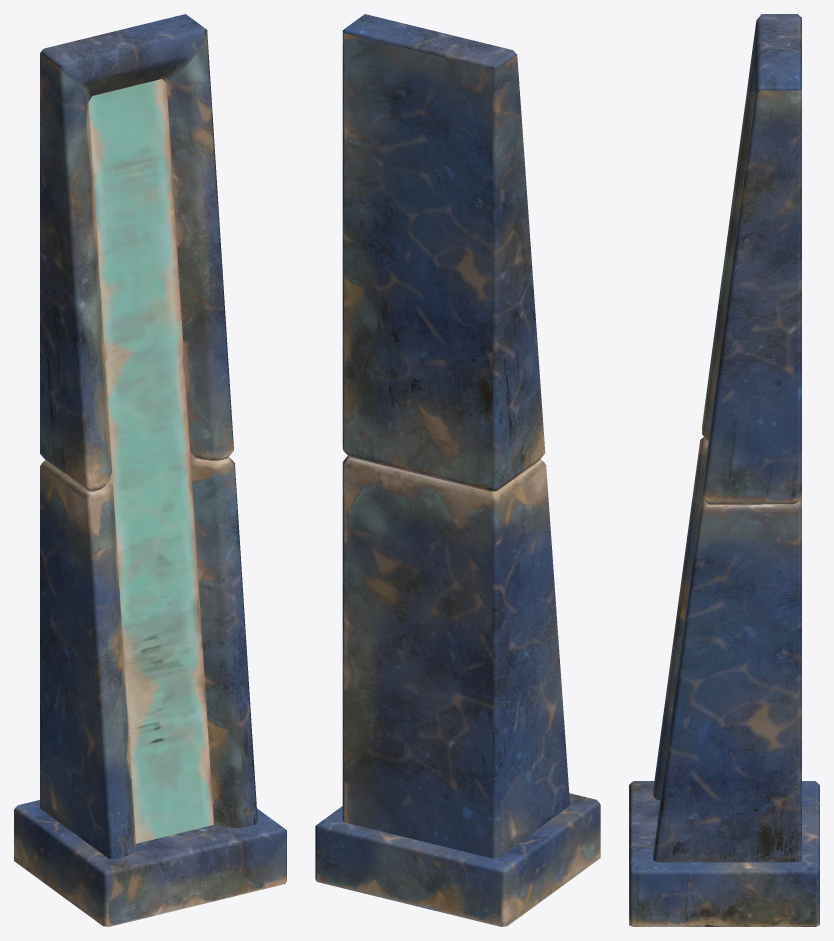
The picture shows the model from 3 angles, left to right: view 1: azimuth 30°, elevation 25°; view 2: azimuth 150°, elevation 25°; view 3: azimuth 270°, elevation 25°; orthographic projection. The views are drawn at different scales.
Parts seen in each view (by area): view 1: SM_Menaphite_Ruins_Column_01_LOD0; view 2: SM_Menaphite_Ruins_Column_01_LOD0; view 3: SM_Menaphite_Ruins_Column_01_LOD0.
Boxes of the visible parts, <box> form: SM_Menaphite_Ruins_Column_01_LOD0: <box>14,14,286,926</box>; SM_Menaphite_Ruins_Column_01_LOD0: <box>315,14,600,926</box>; SM_Menaphite_Ruins_Column_01_LOD0: <box>629,14,819,926</box>.
Size of the model in its own units: 1.26 by 5.31 by 1.1.
Materials: 2 (2 with a texture image).
